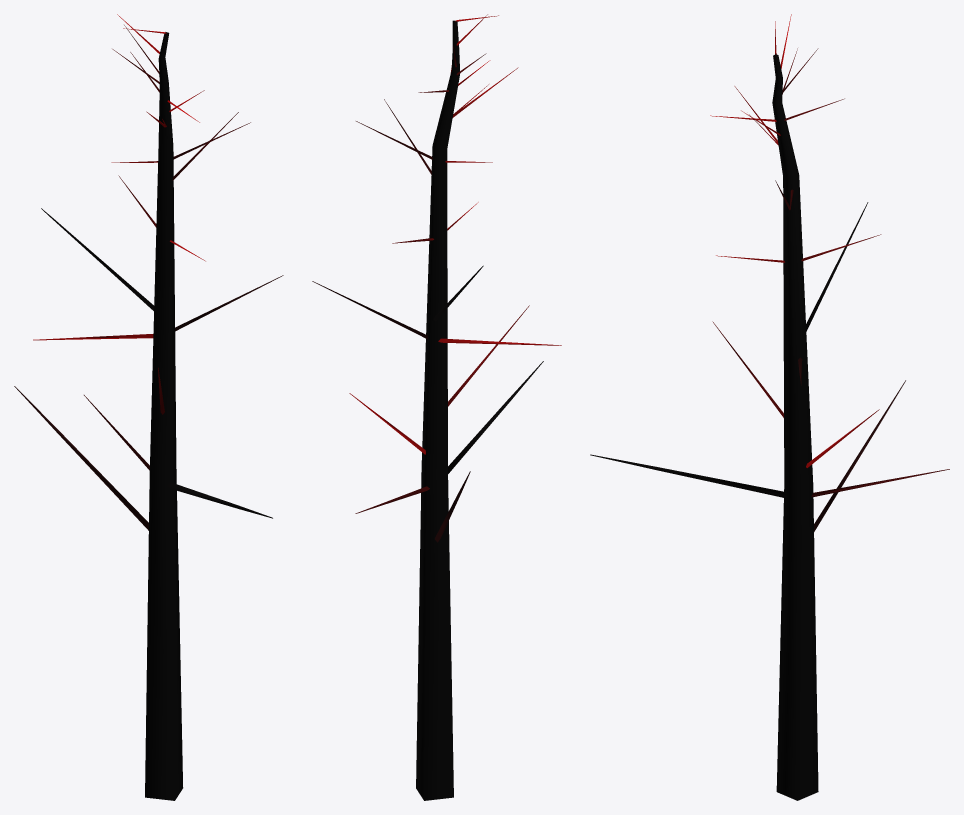
Rendered from Type_4_Tree_4.fbx.
The picture shows the model from 3 angles, left to right: view 1: azimuth 30°, elevation 25°; view 2: azimuth 150°, elevation 25°; view 3: azimuth 270°, elevation 25°; orthographic projection. The views are drawn at different scales.
Visible parts, largest first — view 1: Trunk; view 2: Trunk; view 3: Trunk.
Part boxes in pixels (x1,y1,x2,y2): Trunk: [14, 14, 283, 800]; Trunk: [312, 14, 561, 800]; Trunk: [590, 14, 949, 800].
Bounding box in the file's own units: 1053 × 3184 × 1376.
